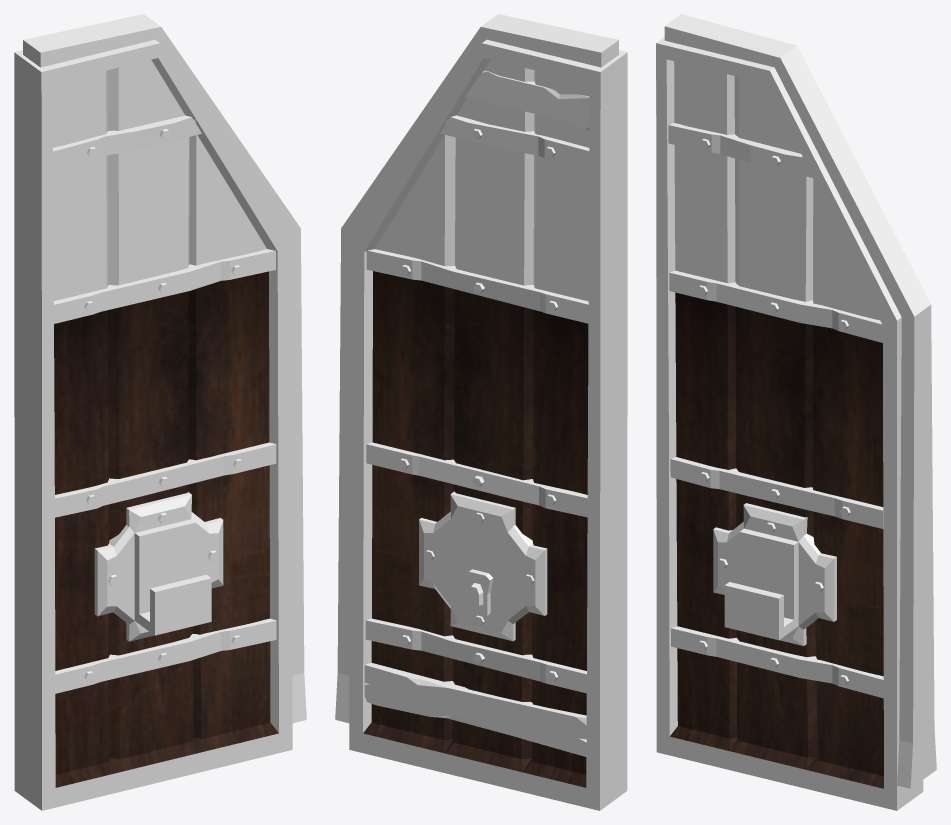
File: Door Large R.fbx
3 renders of one model, left to right at view 1: azimuth 30°, elevation 25°; view 2: azimuth 150°, elevation 25°; view 3: azimuth 330°, elevation 25°, orthographic. The views are drawn at different scales.
Visible parts, largest first — view 1: Door Large R; view 2: Door Large R; view 3: Door Large R.
Part boxes in pixels (x1,y1,x2,y2): Door Large R: [14, 14, 306, 810]; Door Large R: [335, 14, 627, 810]; Door Large R: [656, 14, 936, 810].
Bounding box in the file's own units: 664 × 1802 × 240.
1 material, 1 textured.
